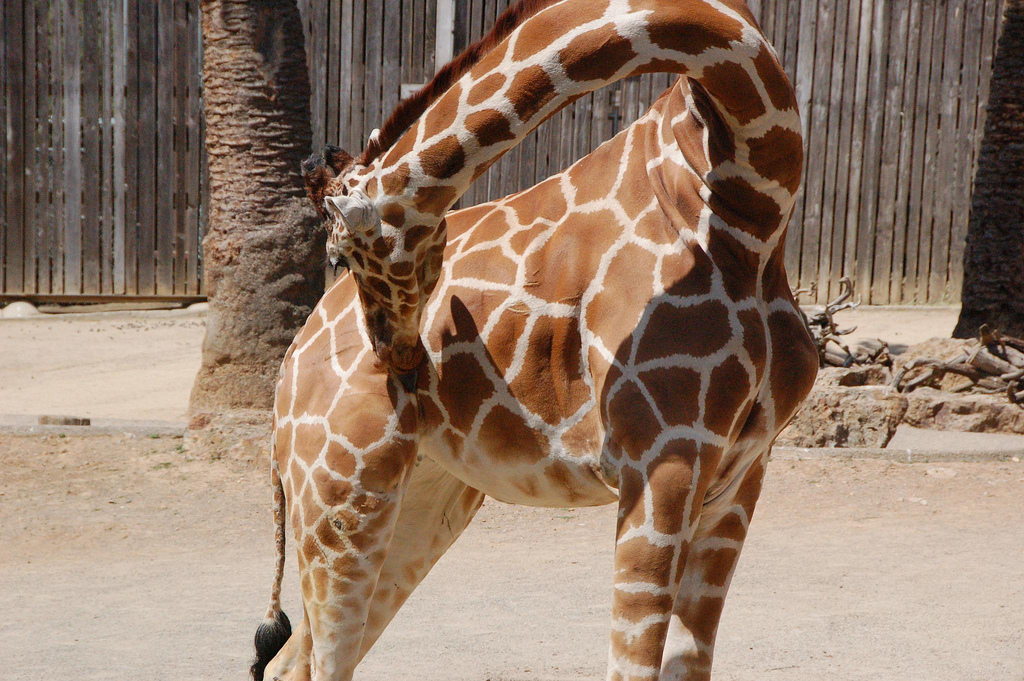giraffe: (246, 4, 860, 681)
